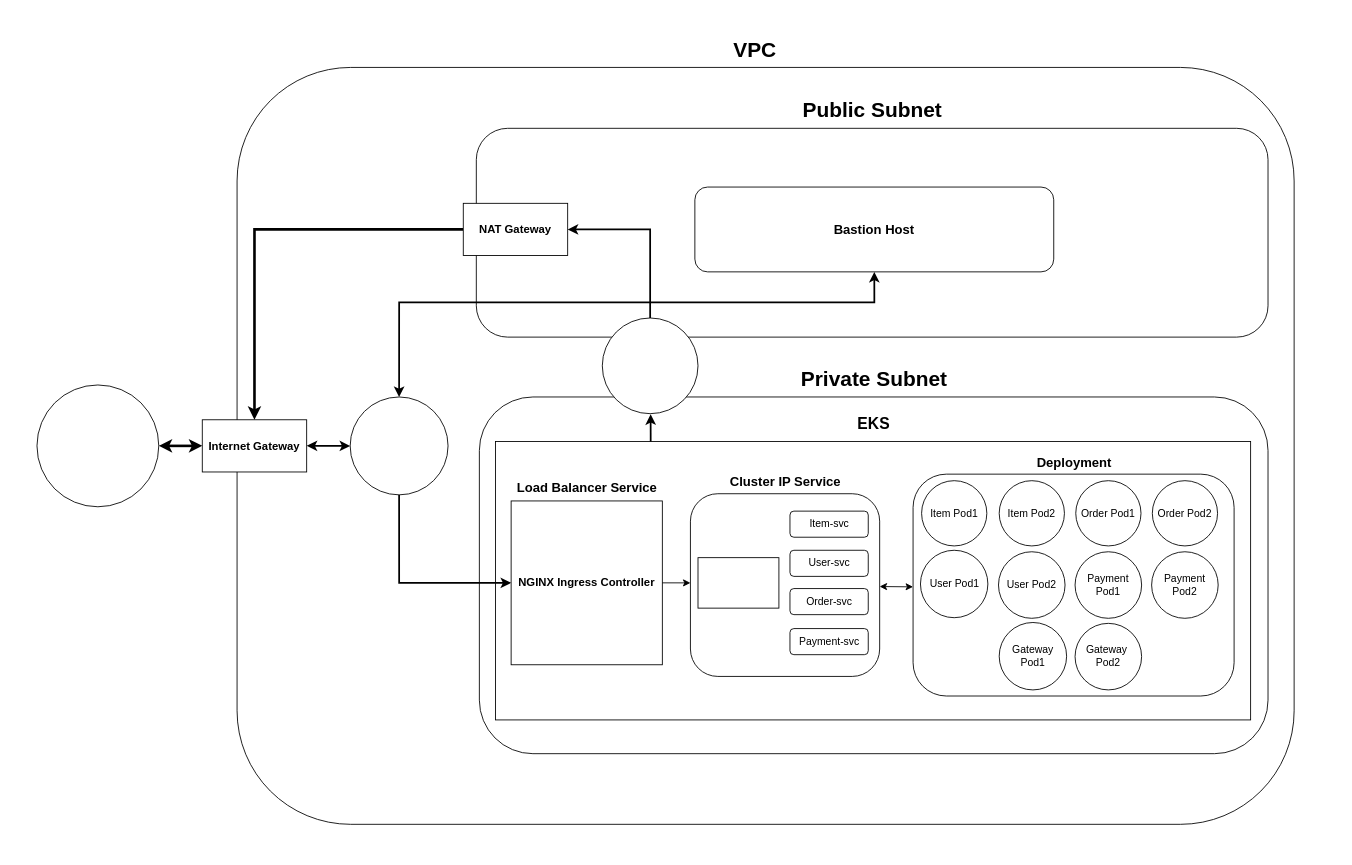
This 1352x865 diagram has some shape labels left out. The shapes that lost their labels are listed below. From the top down, each one's centre as x and y in pixels, then its label:
At point 649,365: "Router".
At point 97,445: "Internet".
At point 398,445: "CLB".
At point 738,582: "Gateway-svc".
